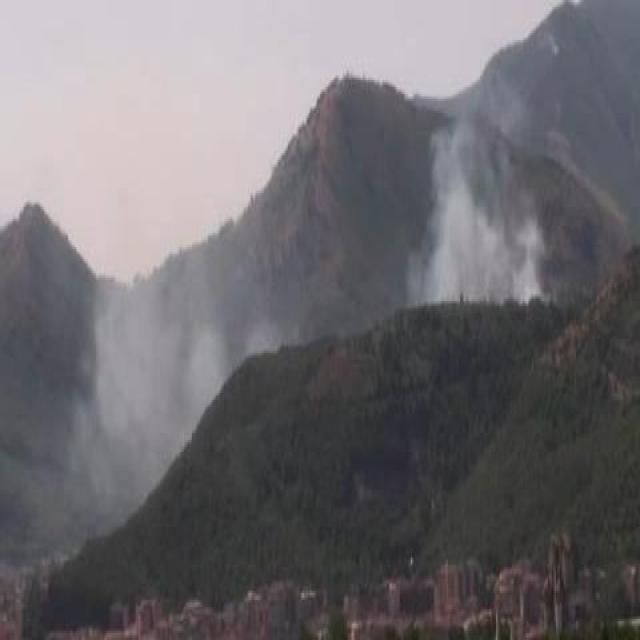Smoke: (78, 278, 206, 490), (412, 142, 544, 302)
